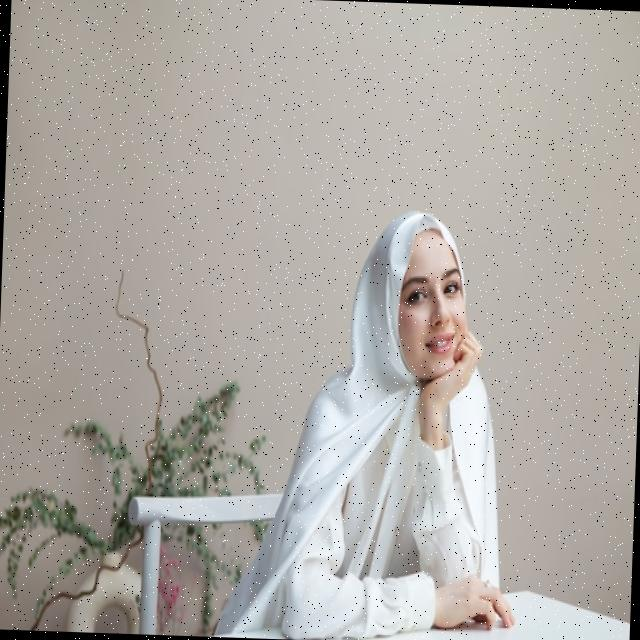Person: (214, 202, 530, 640)
